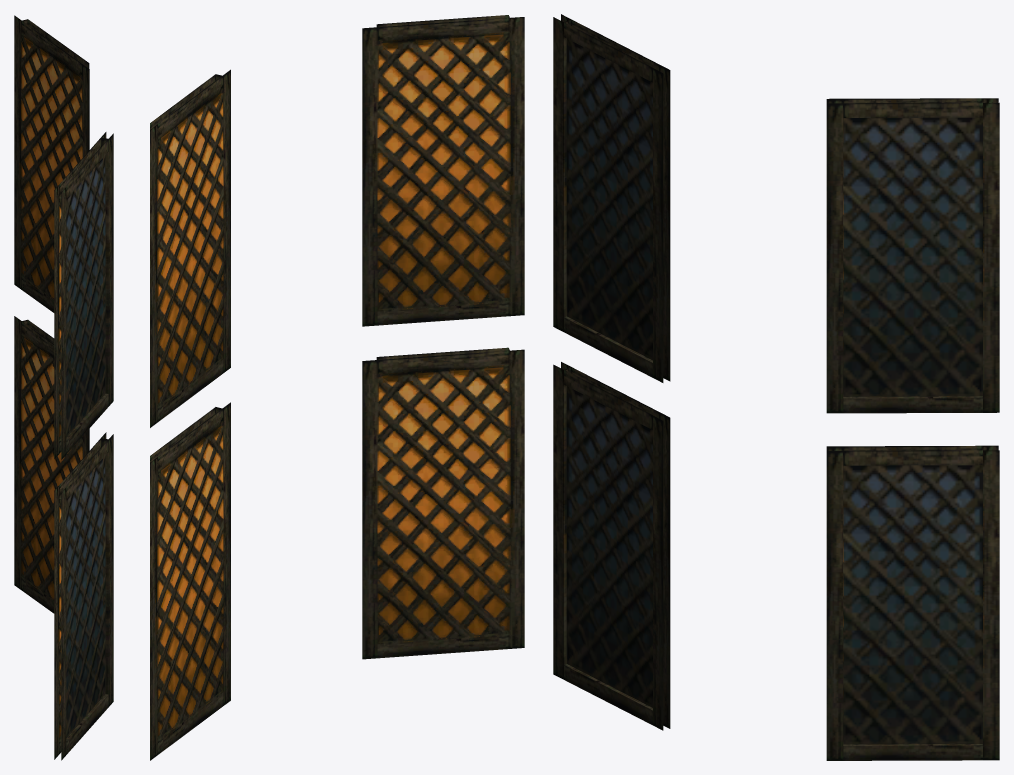
The model's file is LAKETOWN_EXTERIOR_PS_LT_WINDOW_LONG_LOD1_83.fbx.
3 views of the same model, side by side, from view 1: azimuth 30°, elevation 25°; view 2: azimuth 150°, elevation 25°; view 3: azimuth 270°, elevation 25° (orthographic). The views are drawn at different scales.
Visible parts, largest first — view 1: LAKETOWN_EXTERIOR_PS_LT_WINDOW_LONG_LOD1_83; view 2: LAKETOWN_EXTERIOR_PS_LT_WINDOW_LONG_LOD1_83; view 3: LAKETOWN_EXTERIOR_PS_LT_WINDOW_LONG_LOD1_83.
Part boxes in pixels (bbox=[...]): LAKETOWN_EXTERIOR_PS_LT_WINDOW_LONG_LOD1_83: bbox=[14, 15, 113, 760]; LAKETOWN_EXTERIOR_PS_LT_WINDOW_LONG_LOD1_83: bbox=[150, 15, 524, 760]; LAKETOWN_EXTERIOR_PS_LT_WINDOW_LONG_LOD1_83: bbox=[553, 14, 999, 760].
Size of the model in its own units: 9056 by 31412 by 19273.
Materials: 2 (2 with a texture image).
